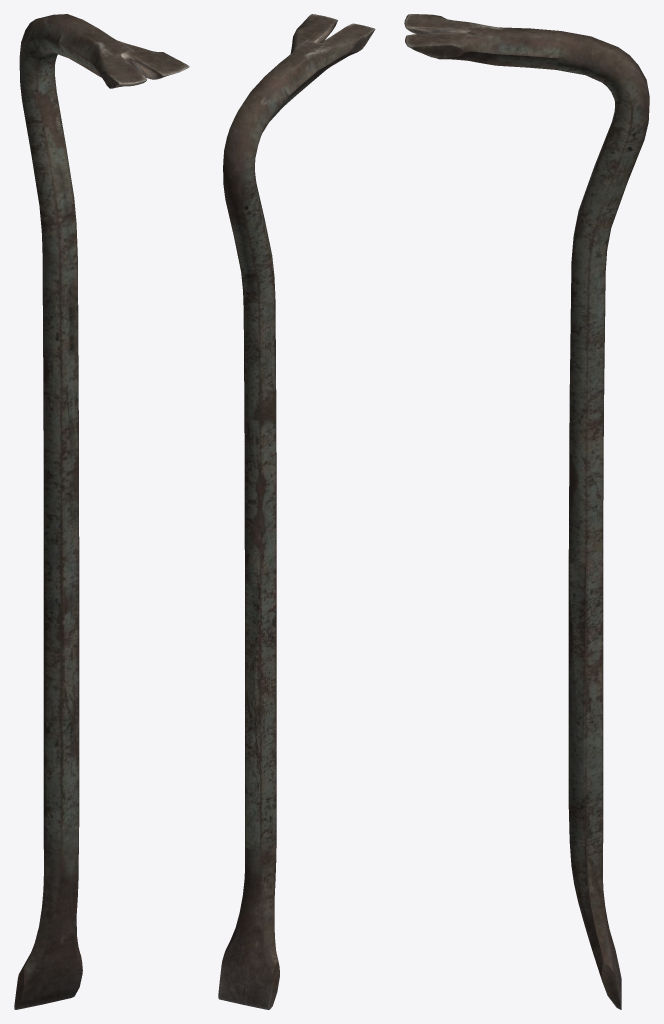
The model's file is crowbar_01.glb.
The picture shows the model from 3 angles, left to right: view 1: azimuth 30°, elevation 25°; view 2: azimuth 150°, elevation 25°; view 3: azimuth 270°, elevation 25°; orthographic projection. The views are drawn at different scales.
Parts seen in each view (by area): view 1: crowbar_01; view 2: crowbar_01; view 3: crowbar_01.
Boxes of the visible parts, left/top/right/bottom form: crowbar_01: left=14, top=14, right=189, bottom=1009; crowbar_01: left=218, top=14, right=375, bottom=1009; crowbar_01: left=404, top=14, right=649, bottom=1009.
Bounding box in the file's own units: 0.0404 × 0.5554 × 0.1276.
Materials: 1 (1 with a texture image).
